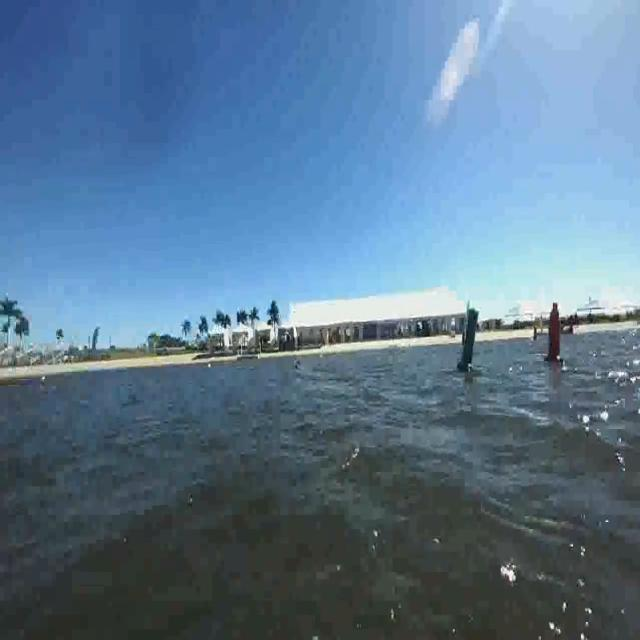green-column-buoy: (456, 302, 480, 374)
red-column-buoy: (544, 302, 562, 366)
